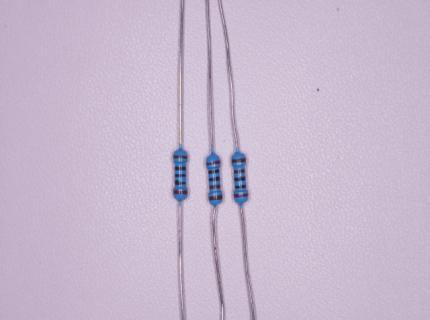Black band: (175, 180, 186, 185), (208, 169, 219, 174), (209, 176, 220, 181), (234, 177, 245, 181), (235, 185, 247, 188), (175, 174, 185, 177), (175, 167, 185, 170)
Brown band: (232, 158, 246, 163), (209, 195, 222, 200), (234, 169, 245, 174), (173, 155, 188, 158), (209, 185, 220, 189)
Red band: (206, 160, 220, 165), (173, 190, 188, 194), (234, 193, 248, 197)
